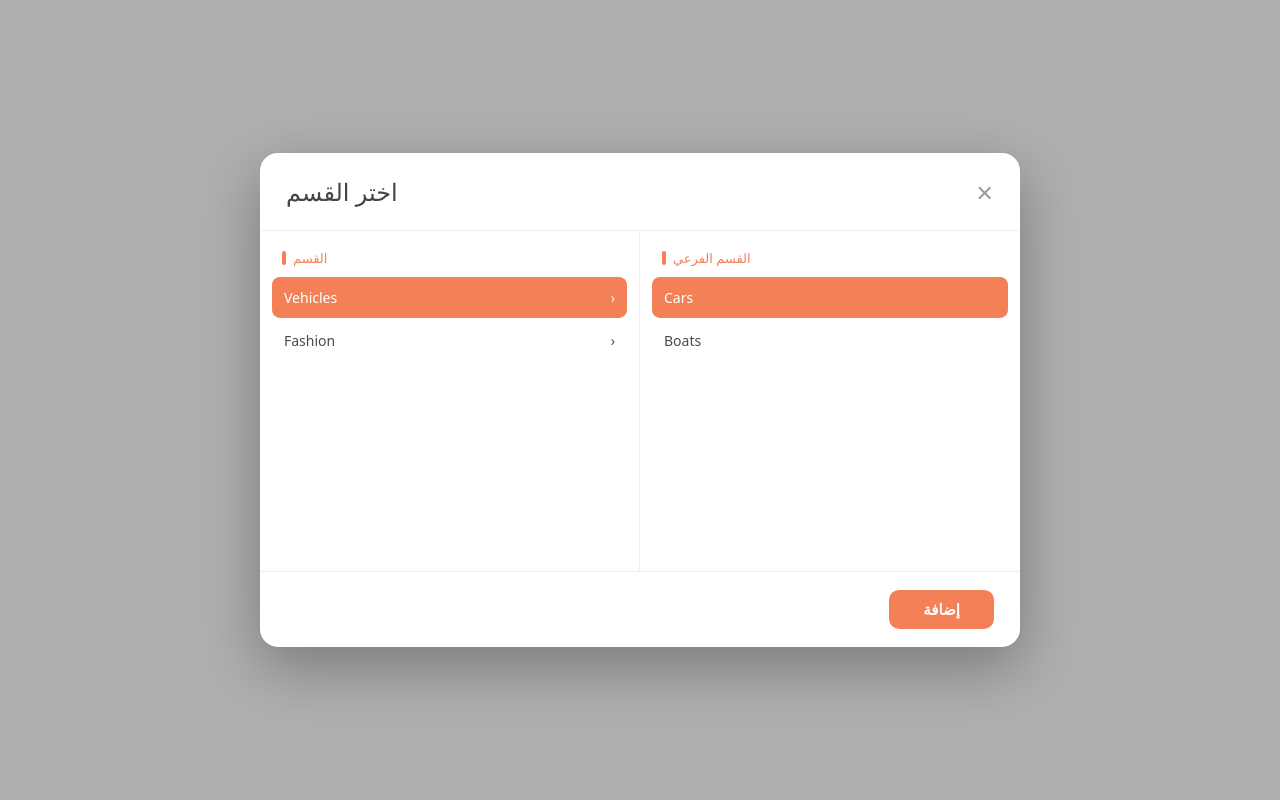
CategoryPicker › switching category clears the old subcategory
The image size is (1280, 800).
Click the button "Fashion ›": (310, 340) [272,320,627,361]
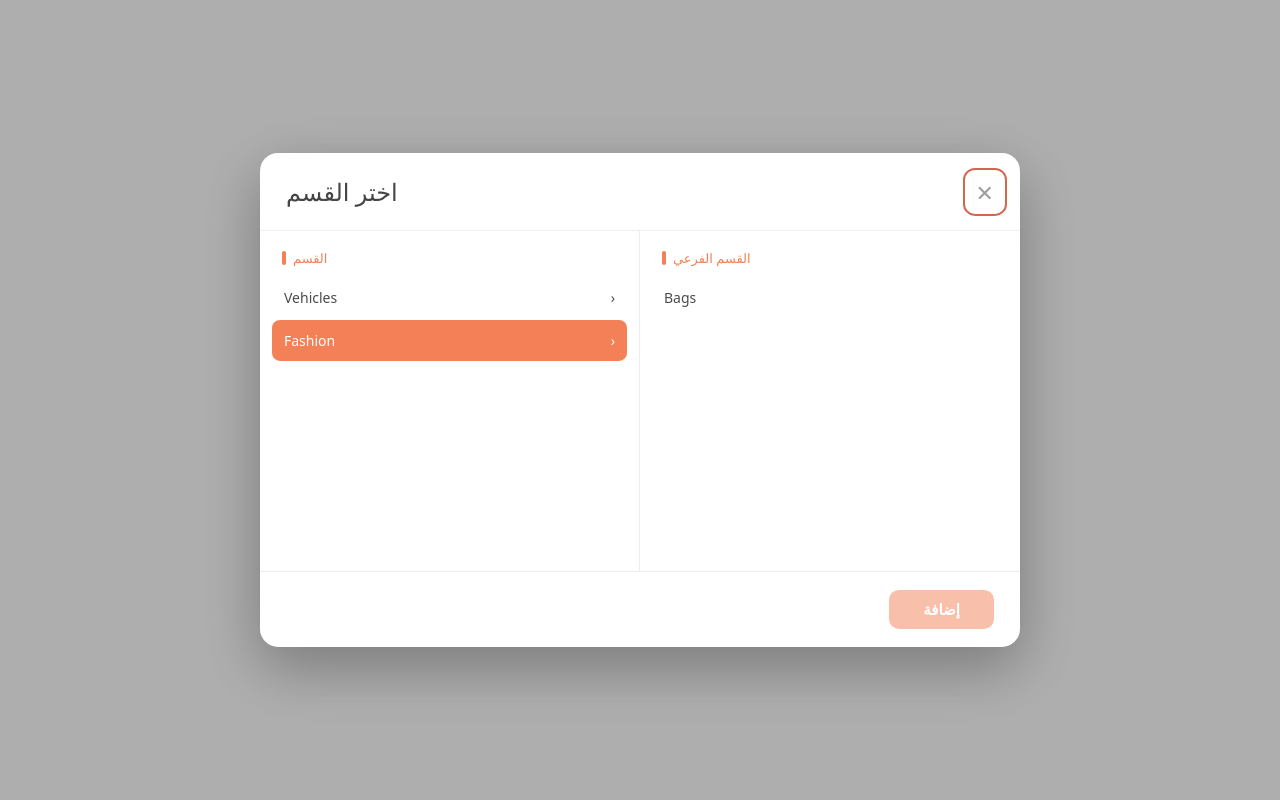
Expected: the button "Cars" is gone
Expected: the button "إضافة" is disabled, [889,590,994,629]
